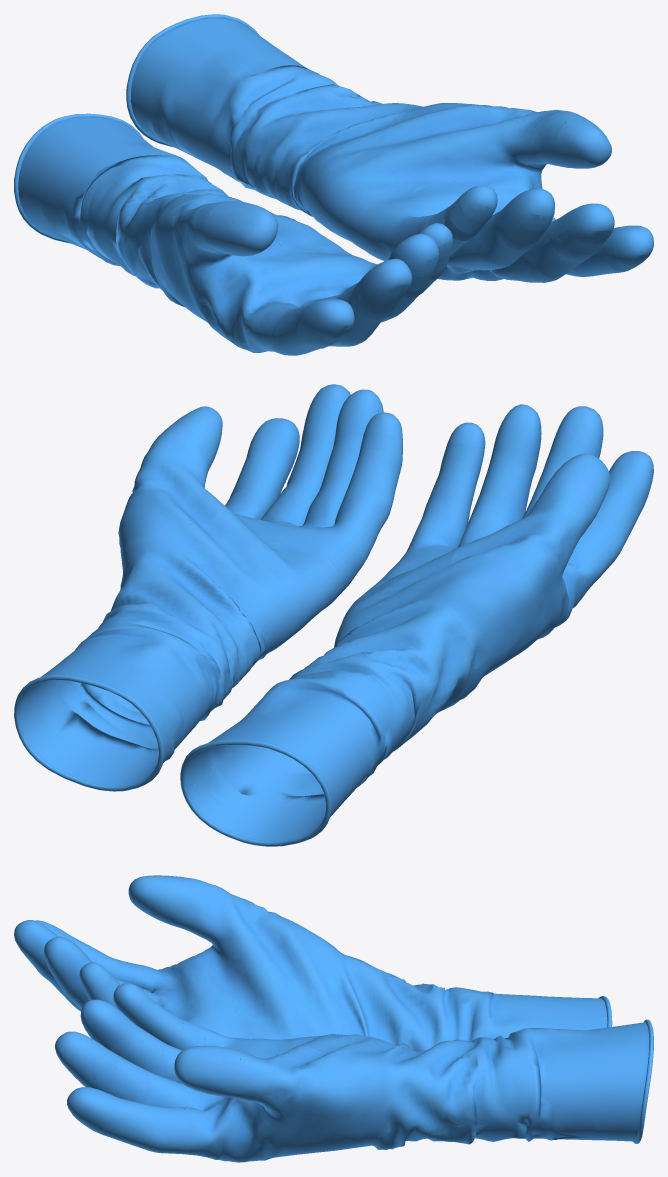
Rendered from med_gloves.fbx.
3 renders of one model, top to bottom at view 1: azimuth 30°, elevation 25°; view 2: azimuth 150°, elevation 25°; view 3: azimuth 270°, elevation 25°, orthographic. The views are drawn at different scales.
Parts seen in each view (by area): view 1: Glove_rubber_low.001, Glove_rubber_low; view 2: Glove_rubber_low, Glove_rubber_low.001; view 3: Glove_rubber_low.001, Glove_rubber_low.
Part boxes in pixels (x1,y1,x2,y2): Glove_rubber_low.001: (126, 14, 653, 282); Glove_rubber_low: (14, 113, 452, 355); Glove_rubber_low: (180, 404, 653, 846); Glove_rubber_low.001: (14, 384, 402, 791); Glove_rubber_low.001: (55, 983, 653, 1162); Glove_rubber_low: (14, 875, 612, 1051).
Size of the model in its own units: 552 by 294 by 835.
